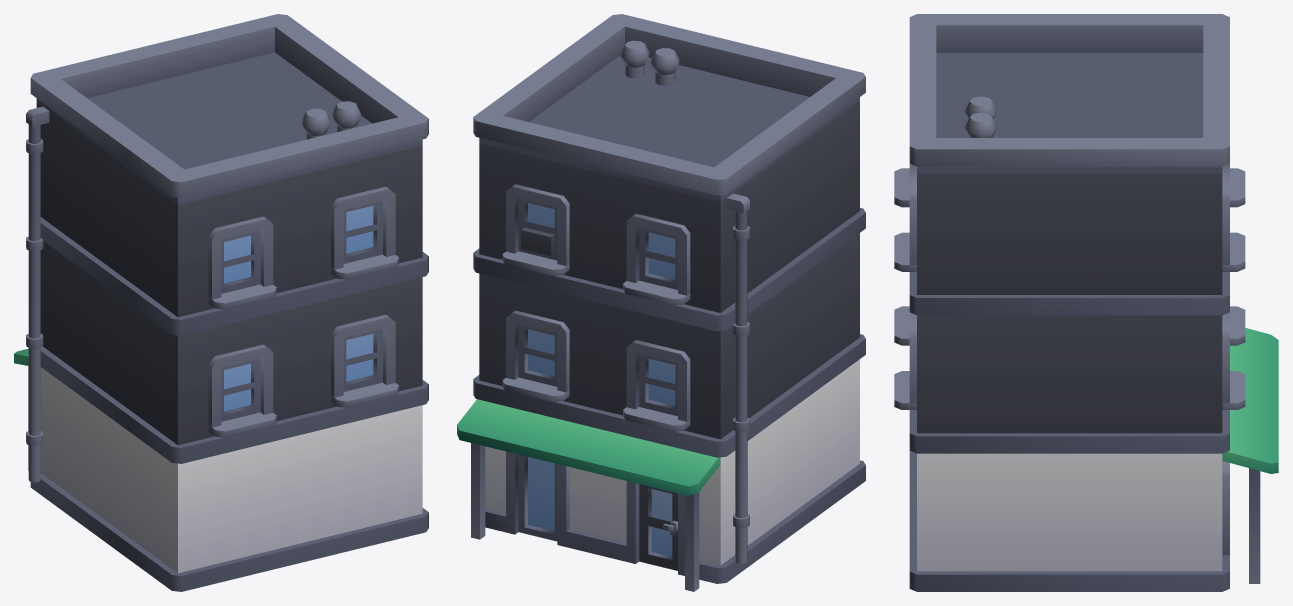
Rendered from building-h.glb.
The picture shows the model from 3 angles, left to right: view 1: azimuth 30°, elevation 25°; view 2: azimuth 150°, elevation 25°; view 3: azimuth 270°, elevation 25°; orthographic projection. The views are drawn at different scales.
Visible parts, largest first — view 1: building-h; view 2: building-h; view 3: building-h.
Boxes of the visible parts, bbox=[...] form: building-h: bbox=[14, 14, 428, 591]; building-h: bbox=[457, 14, 865, 591]; building-h: bbox=[894, 14, 1278, 591].
Size of the model in its own units: 0.8836 by 1.29 by 1.01.
1 material, 1 textured.
